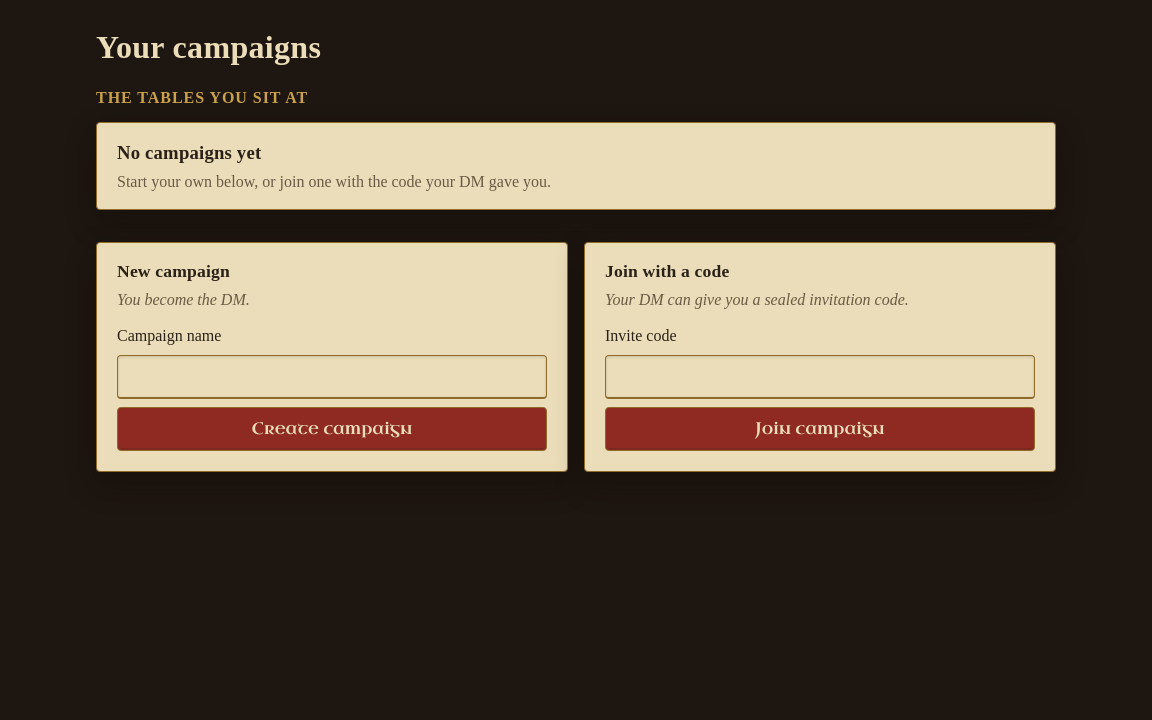
Test case: campaign list › acceptance 1: a DM creates a campaign and sees the invite code
The image size is (1152, 720).
Type "The Sunken Crown" into the field labelled "Campaign name".
click(332, 377); type("The Sunken Crown")  # box [117,355,547,399]
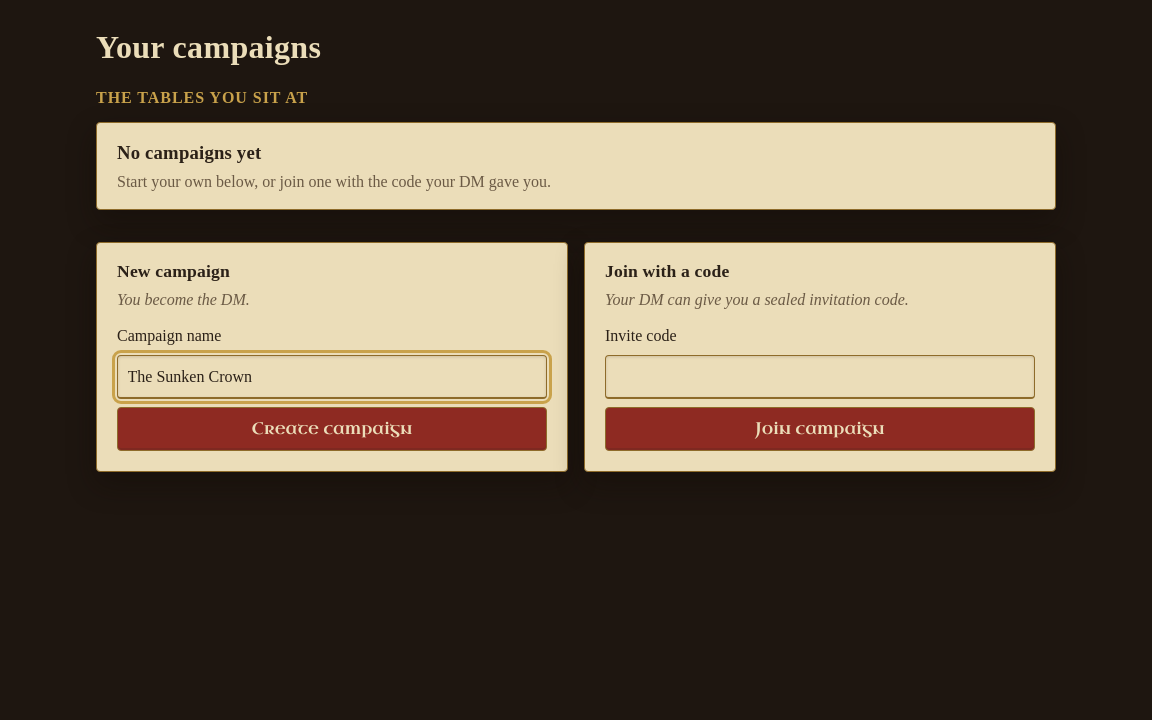
Click the button "Create campaign".
click(332, 429)  # box [117,407,547,451]
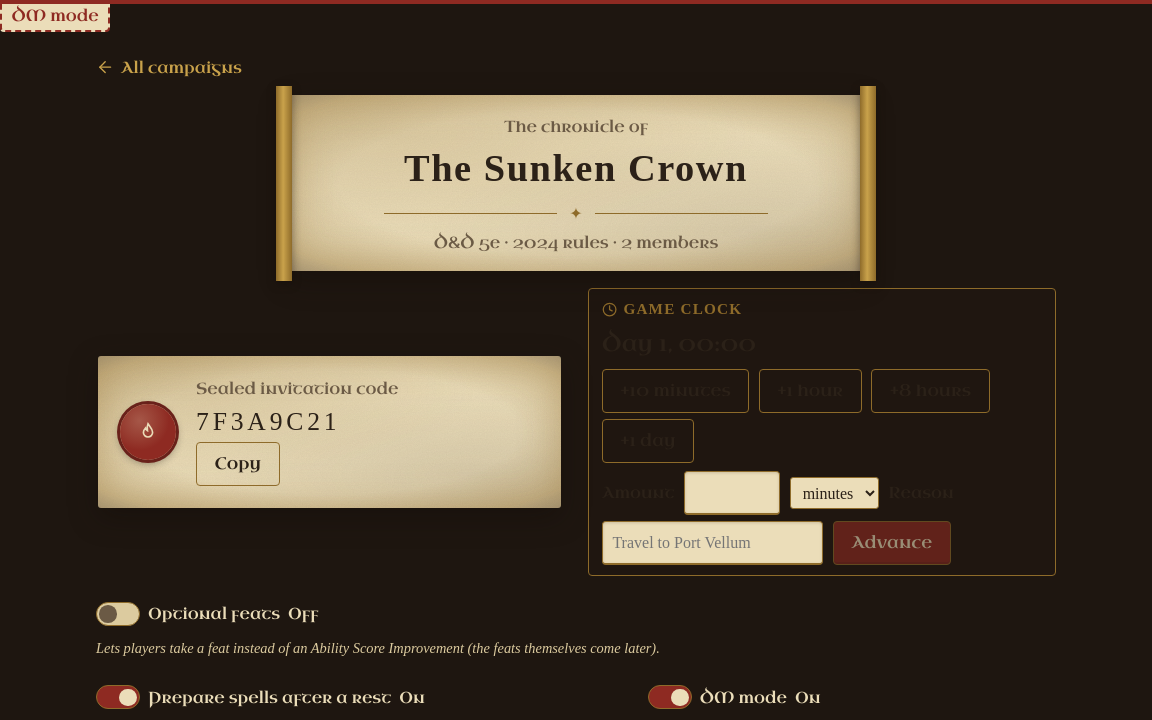
Expected: the heading "The Sunken Crown" is shown, [404,147,748,189]
Expected: the text "7F3A9C21" is shown, [196,407,340,436]
Expected: the switch labelled "DM mode" is shown, [648,685,820,709]
